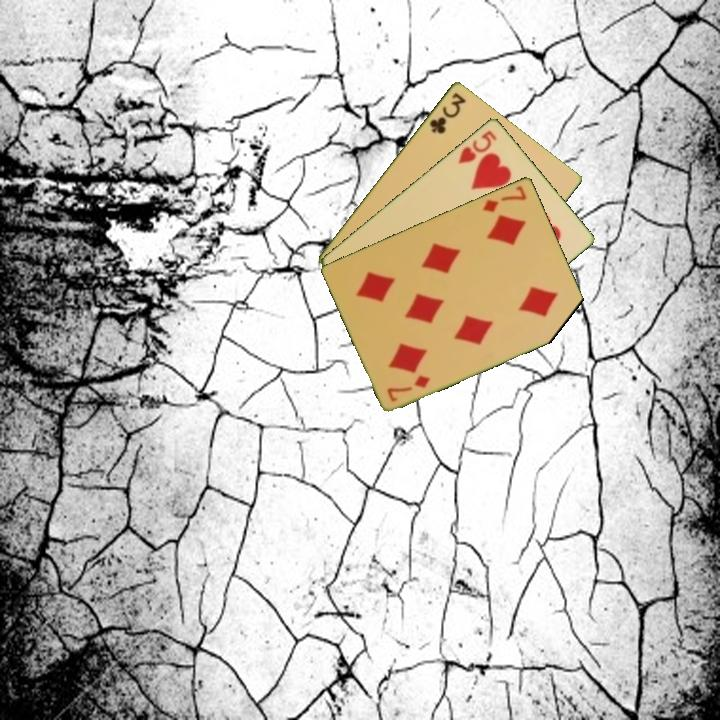3c: (426, 89, 469, 136)
5h: (455, 126, 500, 167)
7d: (479, 182, 529, 215), (384, 371, 433, 404)
